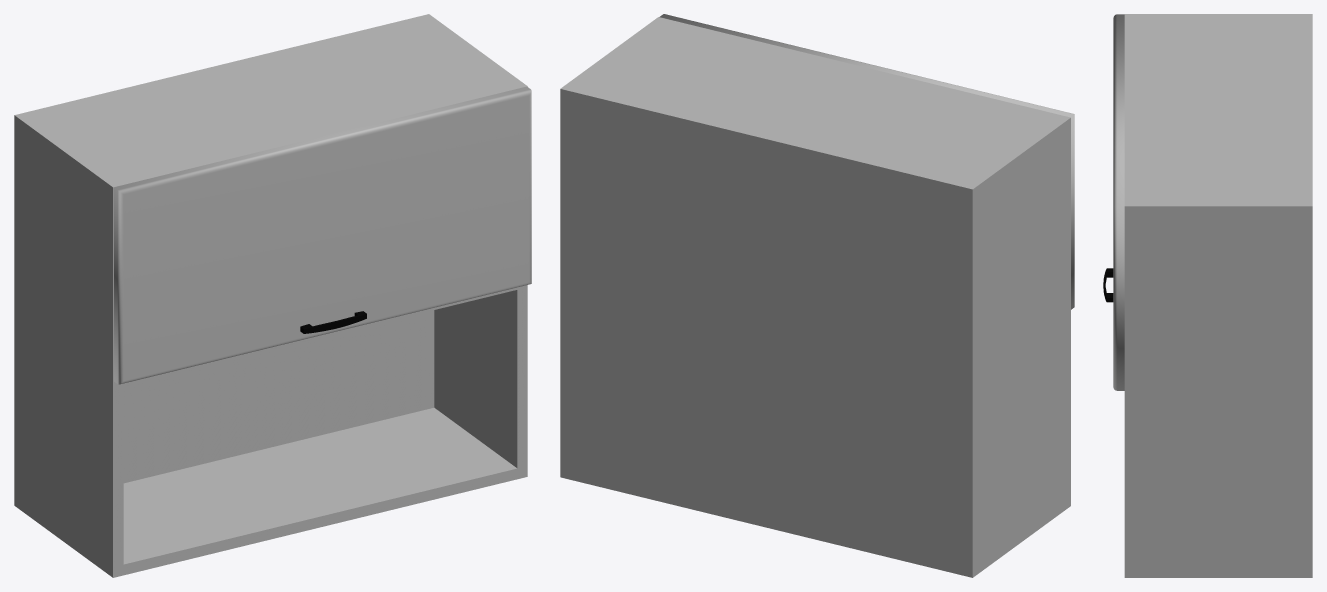
The picture shows the model from 3 angles, left to right: view 1: azimuth 30°, elevation 25°; view 2: azimuth 150°, elevation 25°; view 3: azimuth 270°, elevation 25°; orthographic projection. The views are drawn at different scales.
Visible parts, largest first — view 1: Box038, Box031; view 2: Box038, Box031; view 3: Box038, Box031.
Boxes of the visible parts, x1,y1,x2,y2 form: Box038: (14, 14, 527, 577); Box031: (114, 86, 531, 384); Box038: (560, 17, 1070, 577); Box031: (659, 14, 1074, 309); Box038: (1124, 14, 1312, 577); Box031: (1113, 14, 1124, 390).
Bounding box in the file's own units: 0.8 × 0.72 × 0.3671.
2 materials, 1 textured.
